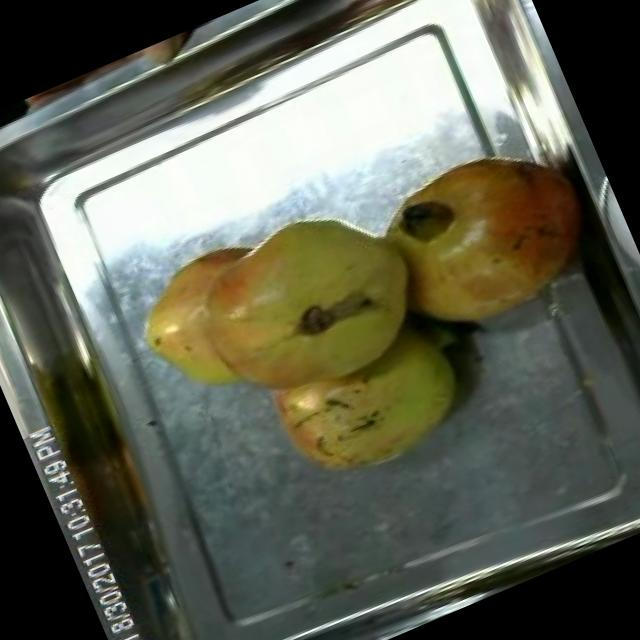fruit: (106, 193, 385, 452), (358, 115, 620, 358), (259, 320, 492, 512), (107, 21, 216, 90)
